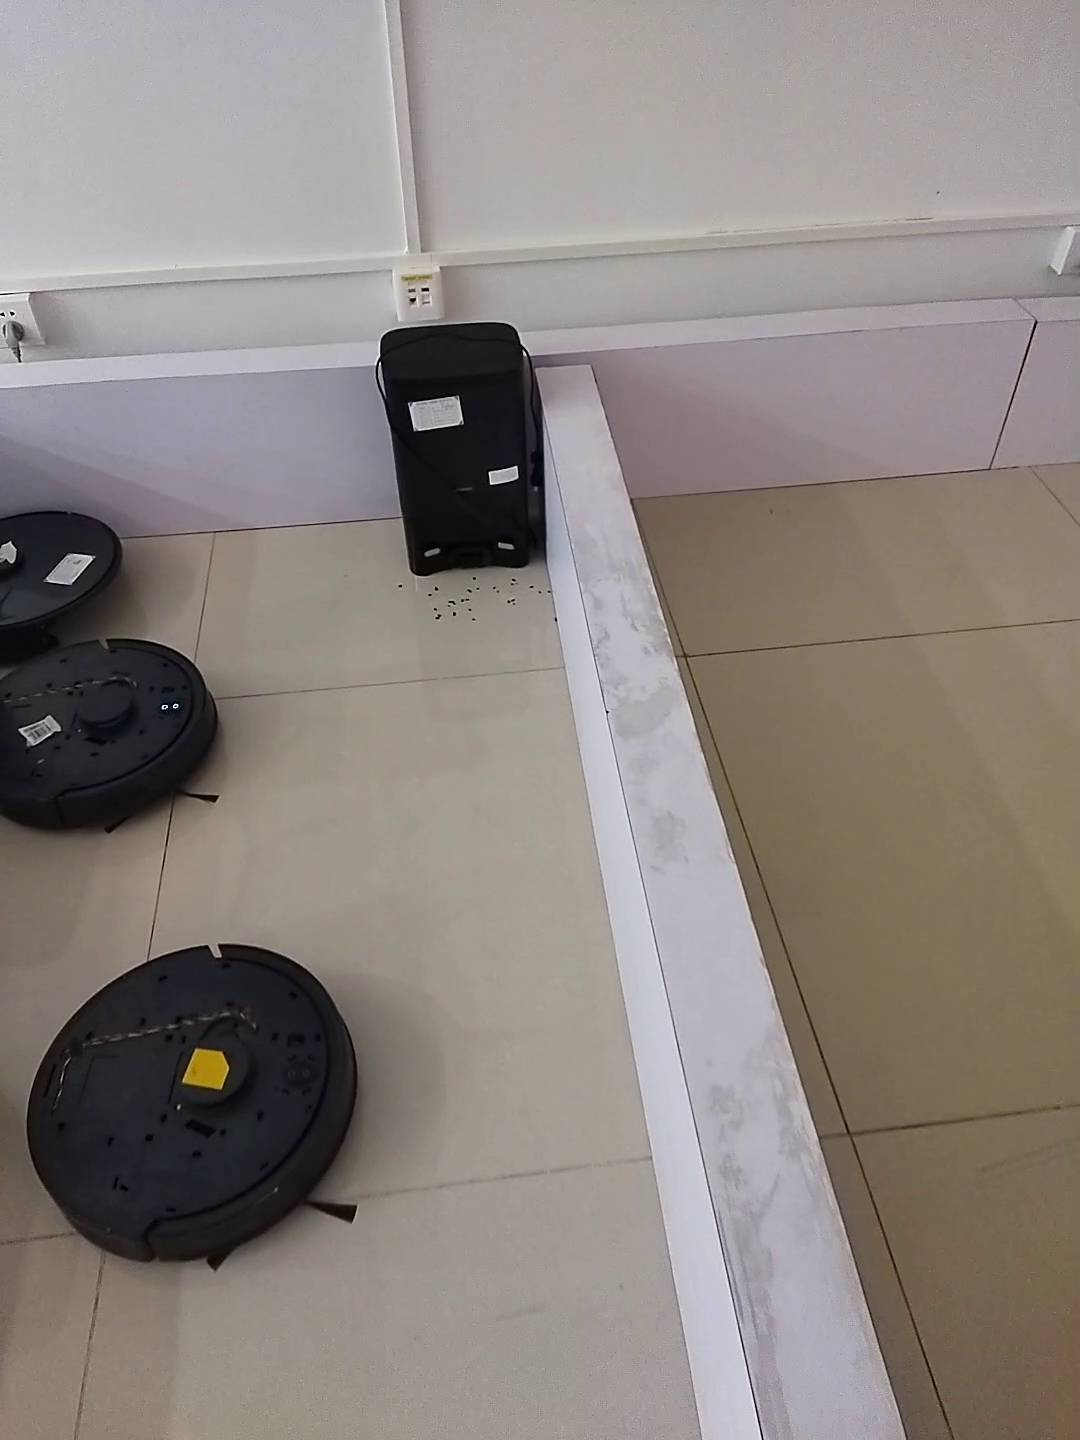dust collecting barrel: (378, 323, 539, 577)
